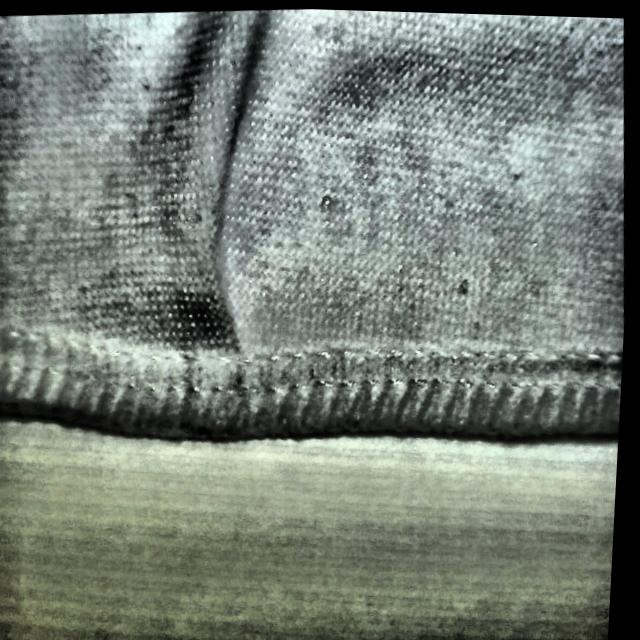seam: (119, 95, 306, 452)
